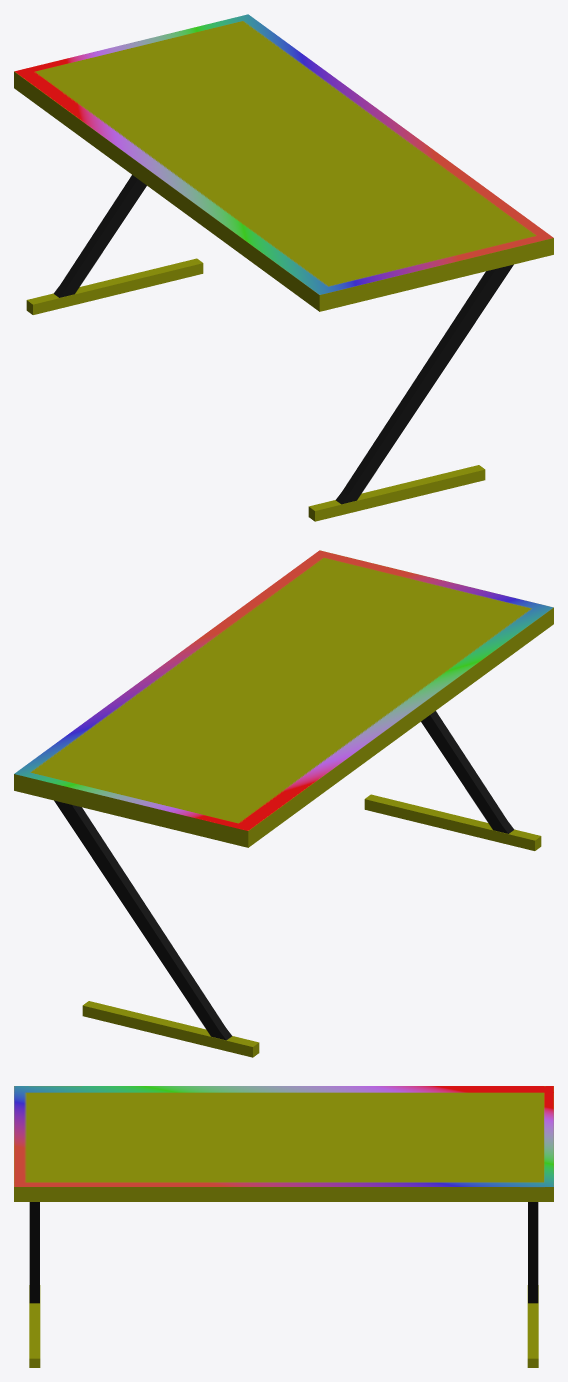
The model's file is tableGold.fbx.
3 views of the same model, one above another, from view 1: azimuth 30°, elevation 25°; view 2: azimuth 150°, elevation 25°; view 3: azimuth 270°, elevation 25° (orthographic). The views are drawn at different scales.
Visible parts, largest first — view 1: Table; view 2: Table; view 3: Table.
Boxes of the visible parts, <box> form: Table: <box>14,14,553,521</box>; Table: <box>14,550,553,1057</box>; Table: <box>14,1086,553,1367</box>.
Size of the model in its own units: 4.18 by 9.44 by 3.98.
